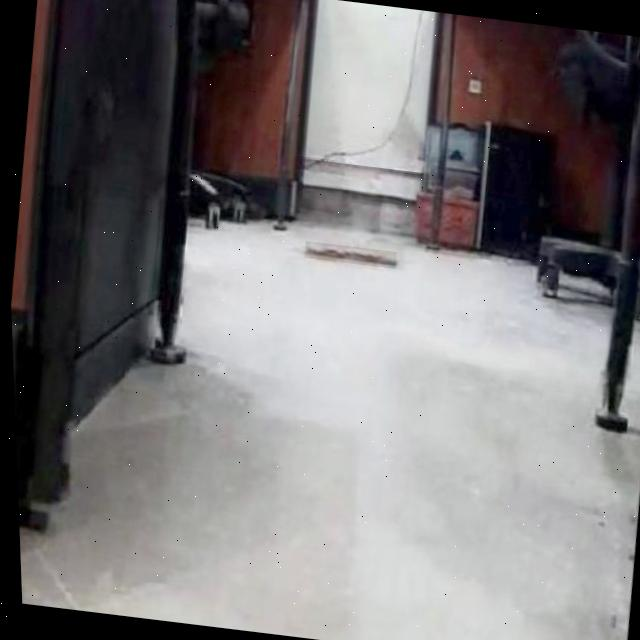spillage: (302, 247, 392, 264)
